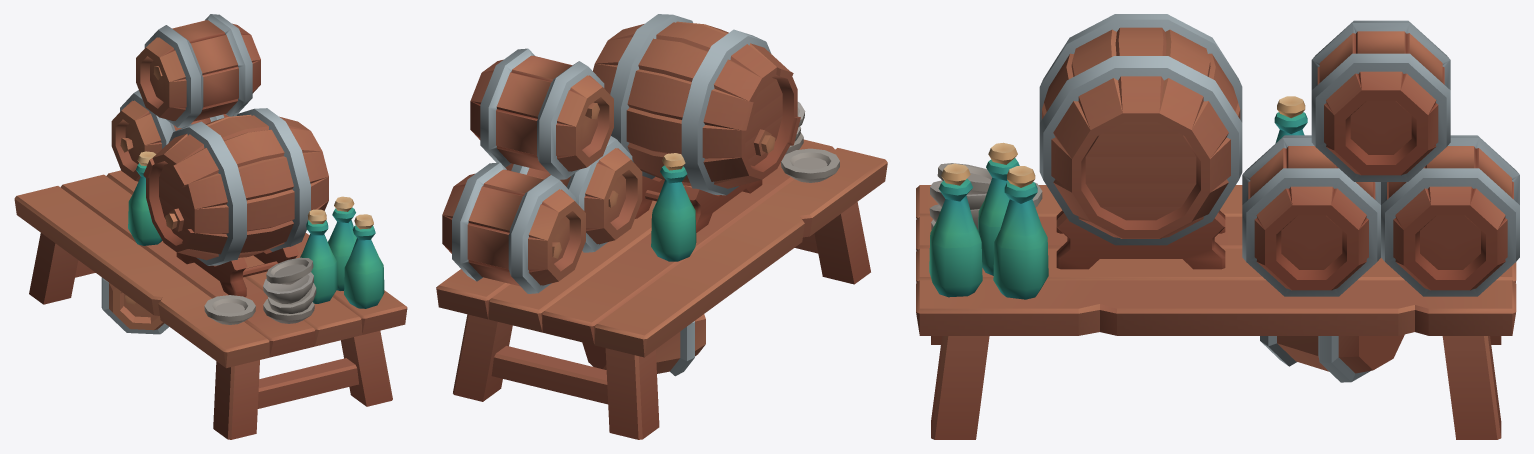
The model's file is table_long_decorated_C.obj.
3 views of the same model, side by side, from view 1: azimuth 30°, elevation 25°; view 2: azimuth 150°, elevation 25°; view 3: azimuth 270°, elevation 25° (orthographic). The views are drawn at different scales.
Visible parts, largest first — view 1: table_long_decorated_C; view 2: table_long_decorated_C; view 3: table_long_decorated_C.
Part boxes in pixels (<box>): table_long_decorated_C: <box>14,14,407,439</box>; table_long_decorated_C: <box>436,14,887,439</box>; table_long_decorated_C: <box>916,14,1519,439</box>.
Size of the model in its own units: 2 by 2.77 by 4.03.
1 material, 1 textured.
